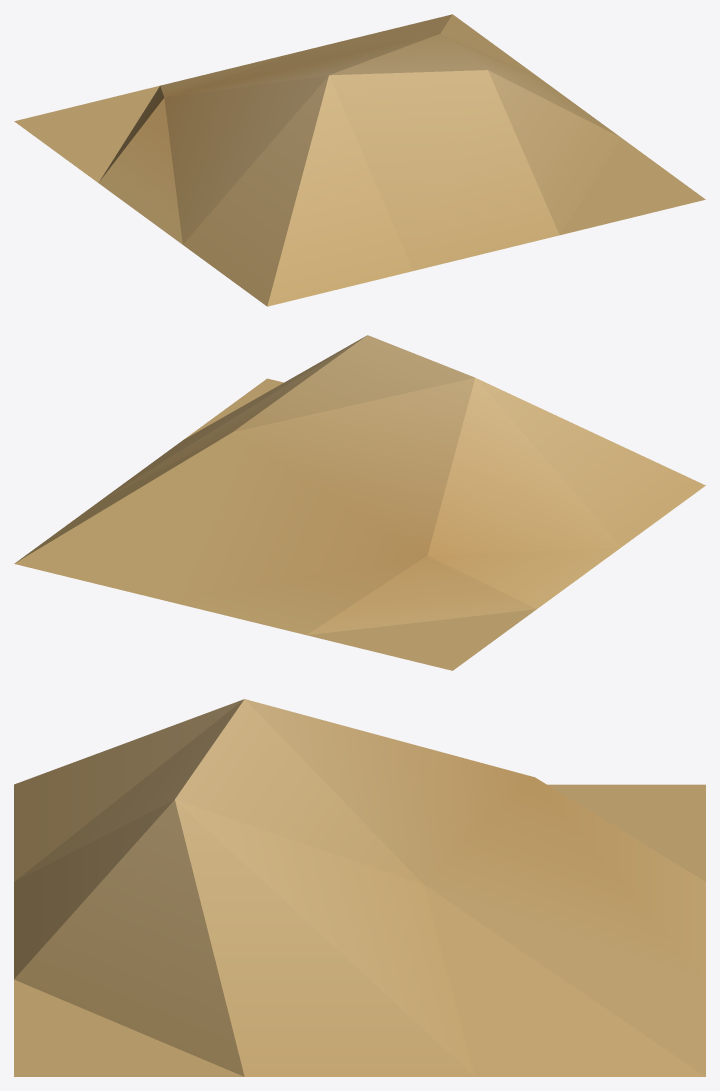
File: Mixed_Ground_Sand_02.fbx
3 views of the same model, one above another, from view 1: azimuth 30°, elevation 25°; view 2: azimuth 150°, elevation 25°; view 3: azimuth 270°, elevation 25° (orthographic). The views are drawn at different scales.
Parts seen in each view (by area): view 1: Ground_Sand_02.001; view 2: Ground_Sand_02.001; view 3: Ground_Sand_02.001.
Boxes of the visible parts, <box> form: Ground_Sand_02.001: <box>14,14,705,306</box>; Ground_Sand_02.001: <box>14,335,705,670</box>; Ground_Sand_02.001: <box>14,699,705,1076</box>.
Size of the model in its own units: 500 by 146 by 500.
